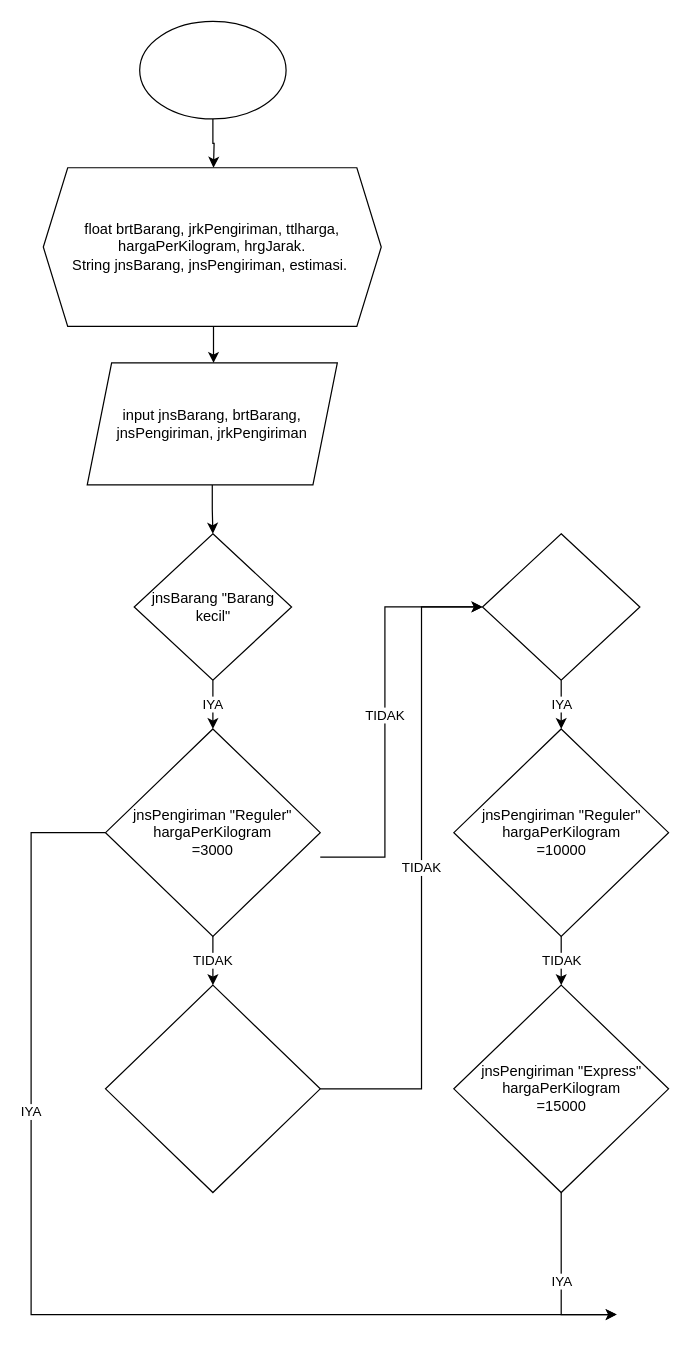
This 691x1346 diagram has some shape labels left out. The centre of each missing label's shape, as x and y in pixels:
jnsBarang "Barang besar": (x=560, y=606)
jnsPengiriman "Express" hargaPerKilogram =5000: (x=212, y=1088)
START: (x=212, y=69)
